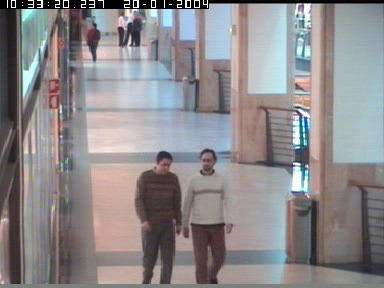person: (182, 148, 234, 284), (133, 150, 182, 284), (85, 21, 101, 62), (116, 11, 128, 47), (132, 12, 144, 47)
